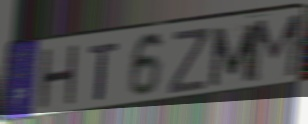6: (124, 31, 168, 102)
H: (36, 42, 81, 114)
M: (247, 12, 306, 87), (207, 21, 260, 90)
T: (87, 40, 122, 103)
Z: (167, 26, 211, 97)
